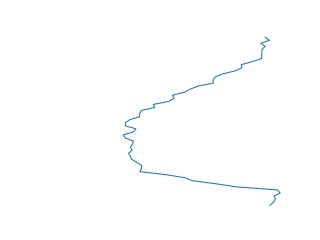underwaterDistributaryChannel: (117, 37, 284, 208)
